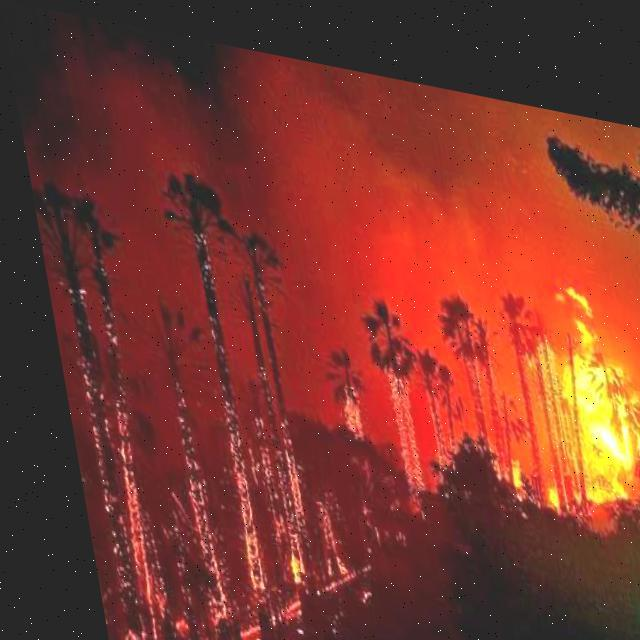Fire: (62, 374, 335, 639), (537, 256, 639, 496), (493, 438, 512, 480), (528, 453, 548, 492)
